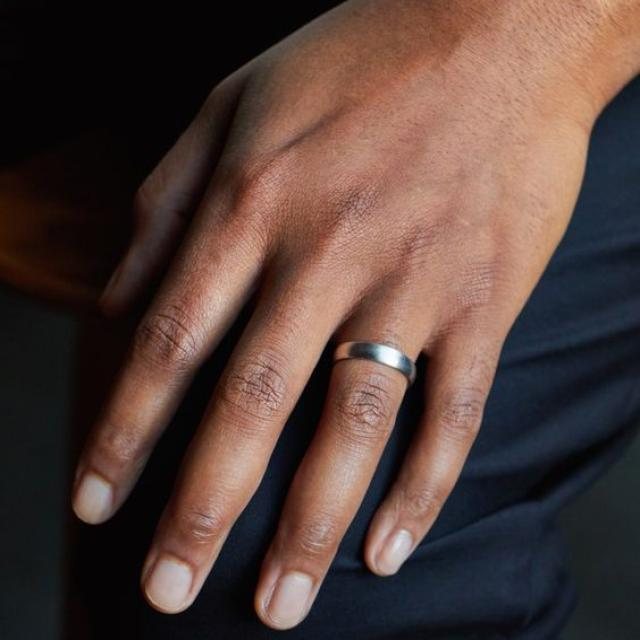Fingernail: (267, 571, 314, 628), (147, 557, 192, 612), (74, 473, 113, 523), (377, 529, 412, 575)
